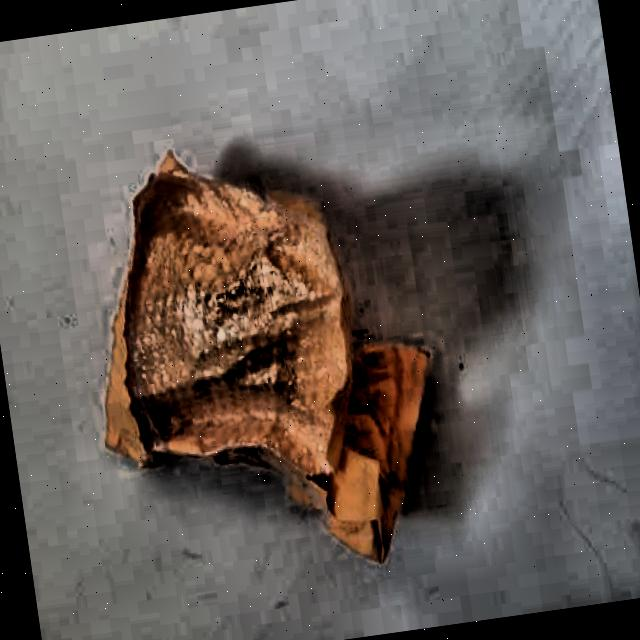trash: (71, 121, 442, 567)
